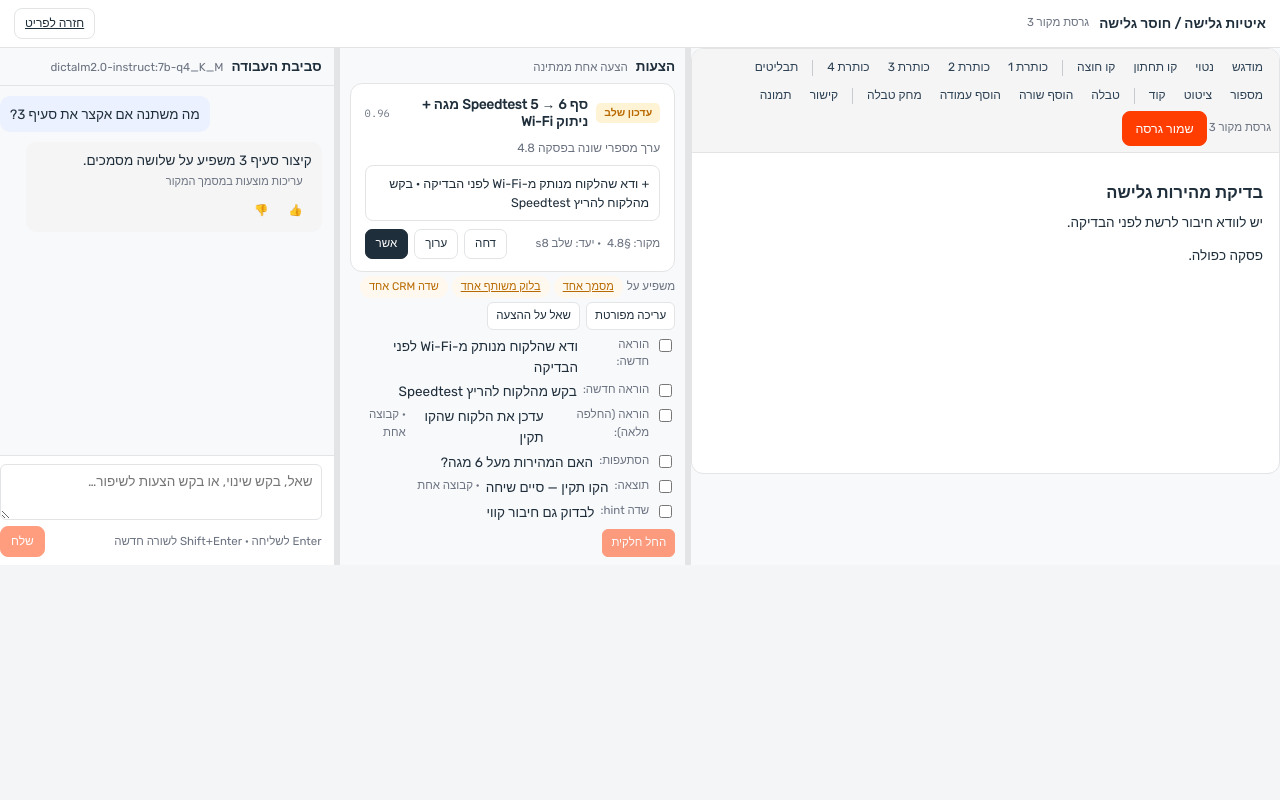
Test: <WorkspacePage> › a refined_suggestion event raises the banner in the suggestions pane and prefills the drawer
The width and height of the screenshot is (1280, 800).
In the text box named "הודעה למערכת": (161, 492) [0, 464, 322, 520], type "עדן"
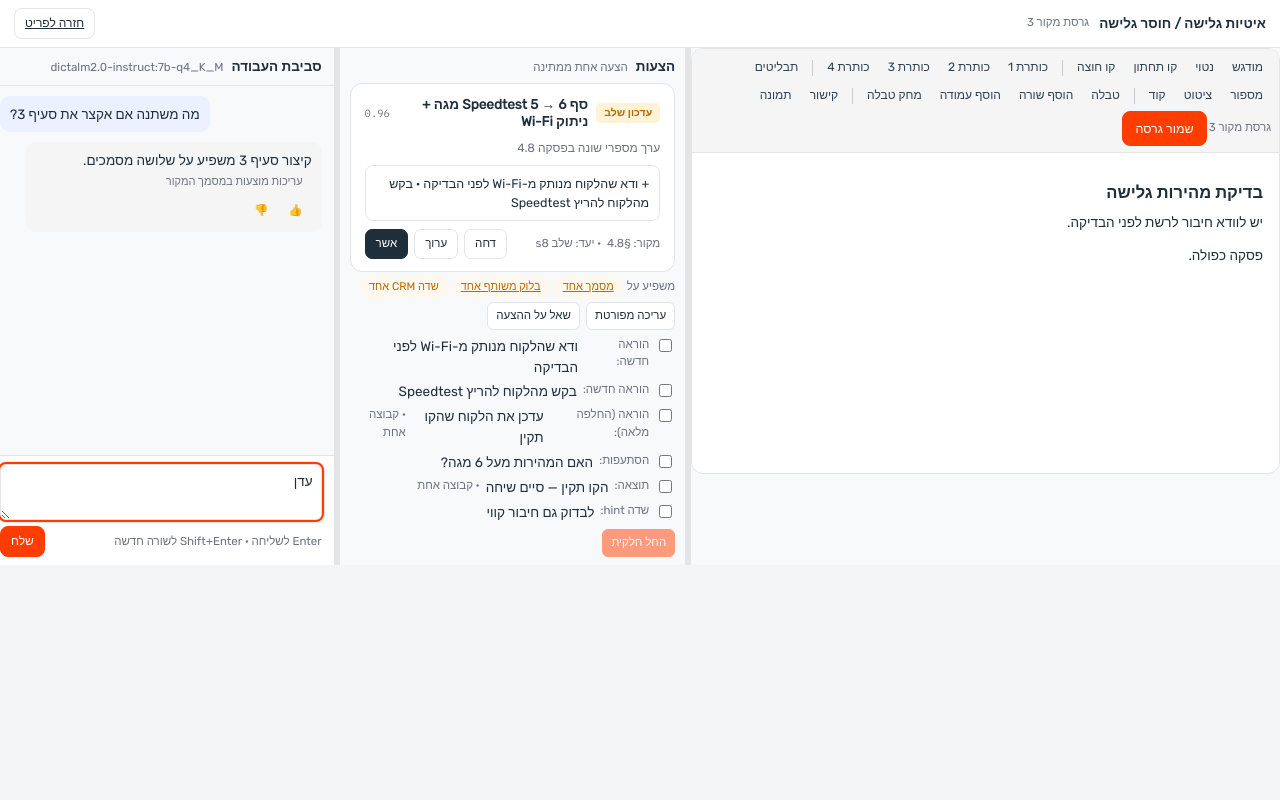
Press Enter
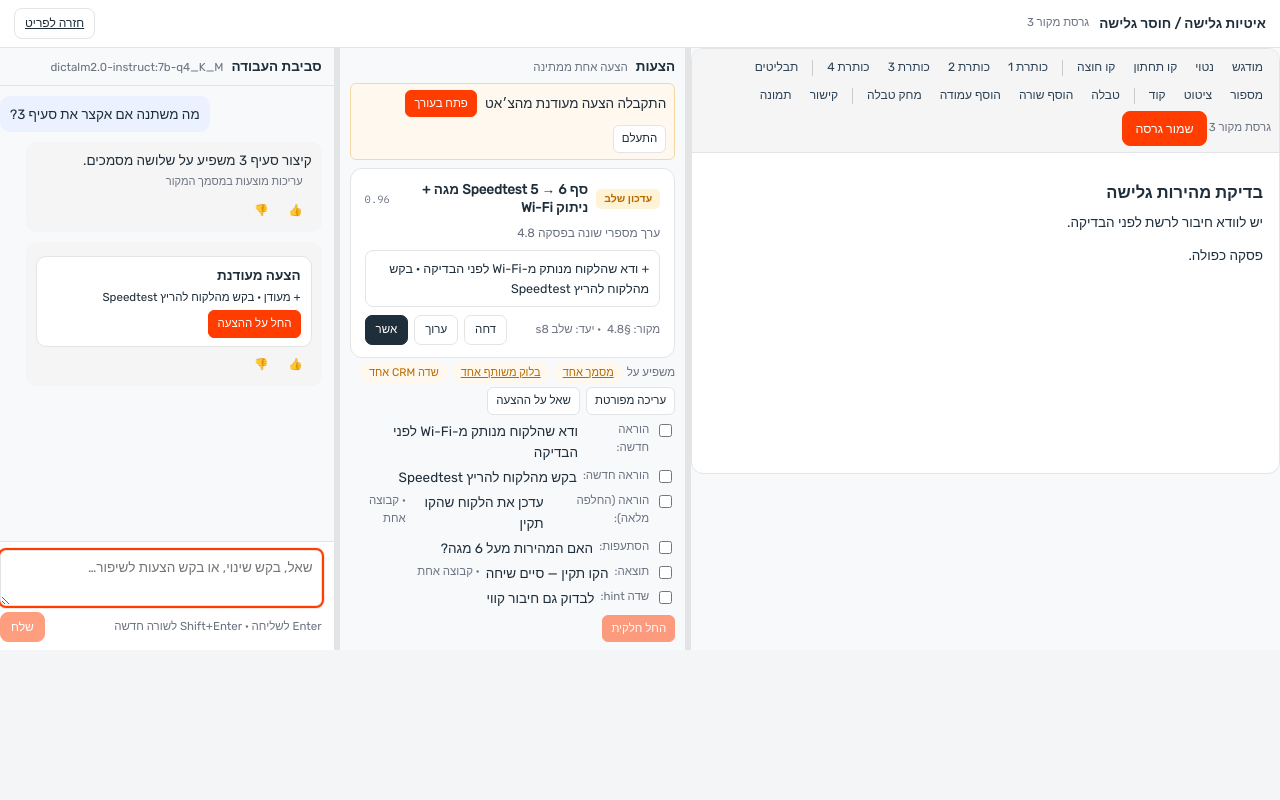
Expected: the text "התקבלה הצעה מעודנת מהצ׳אט" is shown, [485, 93, 666, 114]
Click the button "פתח בעורך": (441, 103) [405, 90, 477, 117]
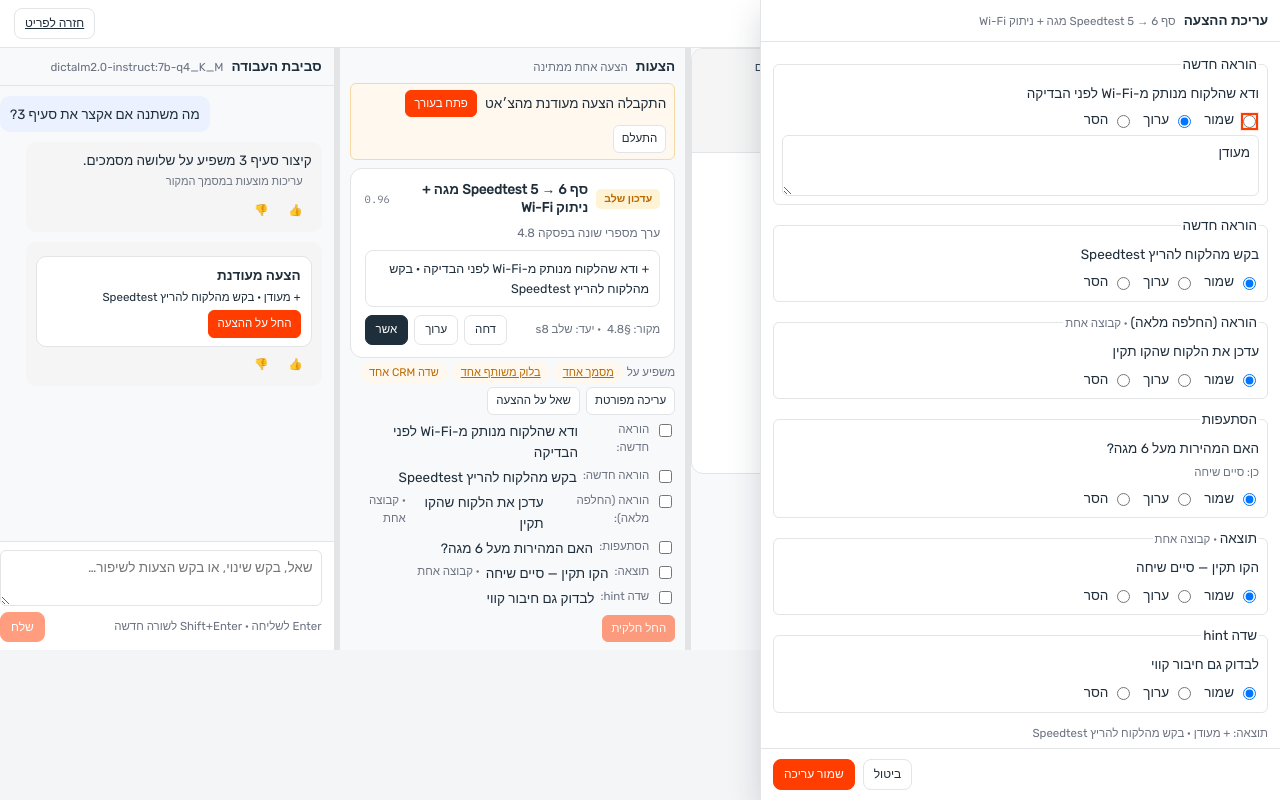
Expected: the text box named "ערך חדש · הוראה חדשה" holds "מעודן", [782, 135, 1259, 196]
